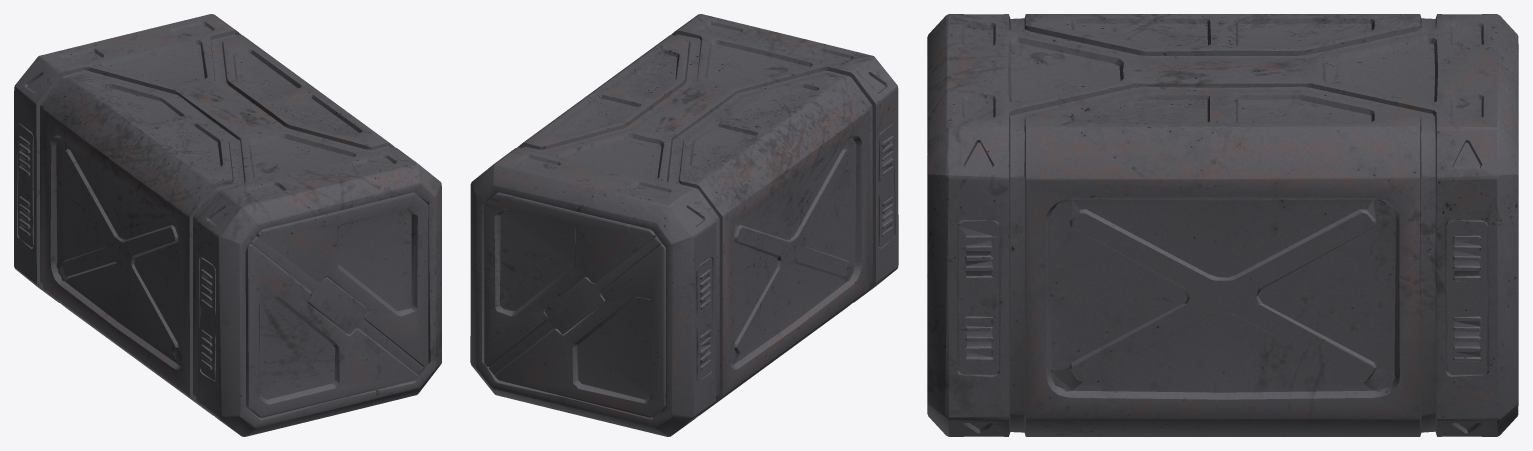
The model's file is yellow_box.FBX.
The picture shows the model from 3 angles, left to right: view 1: azimuth 30°, elevation 25°; view 2: azimuth 150°, elevation 25°; view 3: azimuth 270°, elevation 25°; orthographic projection. The views are drawn at different scales.
Visible parts, largest first — view 1: yellow_box; view 2: yellow_box; view 3: yellow_box.
Part boxes in pixels (x1,y1,x2,y2): yellow_box: (14, 14, 441, 436); yellow_box: (470, 14, 898, 436); yellow_box: (927, 14, 1518, 436).
Bounding box in the file's own units: 1.5 × 1.46 × 2.53.
1 material, 1 textured.
